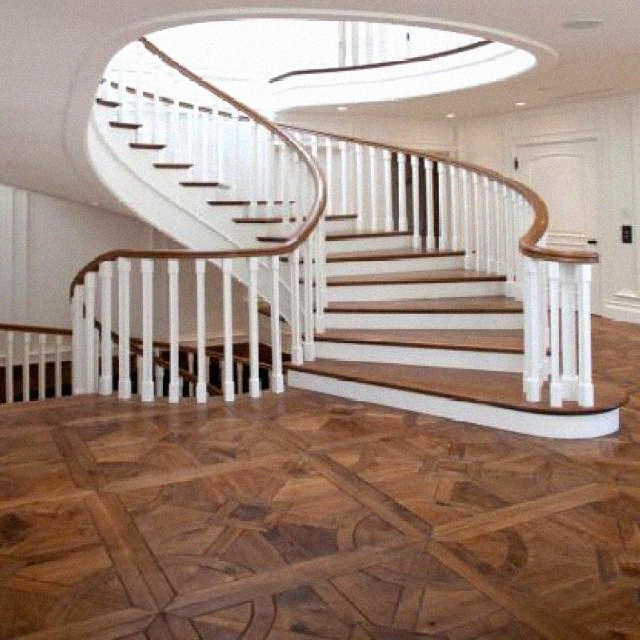stair: (35, 50, 620, 435)
